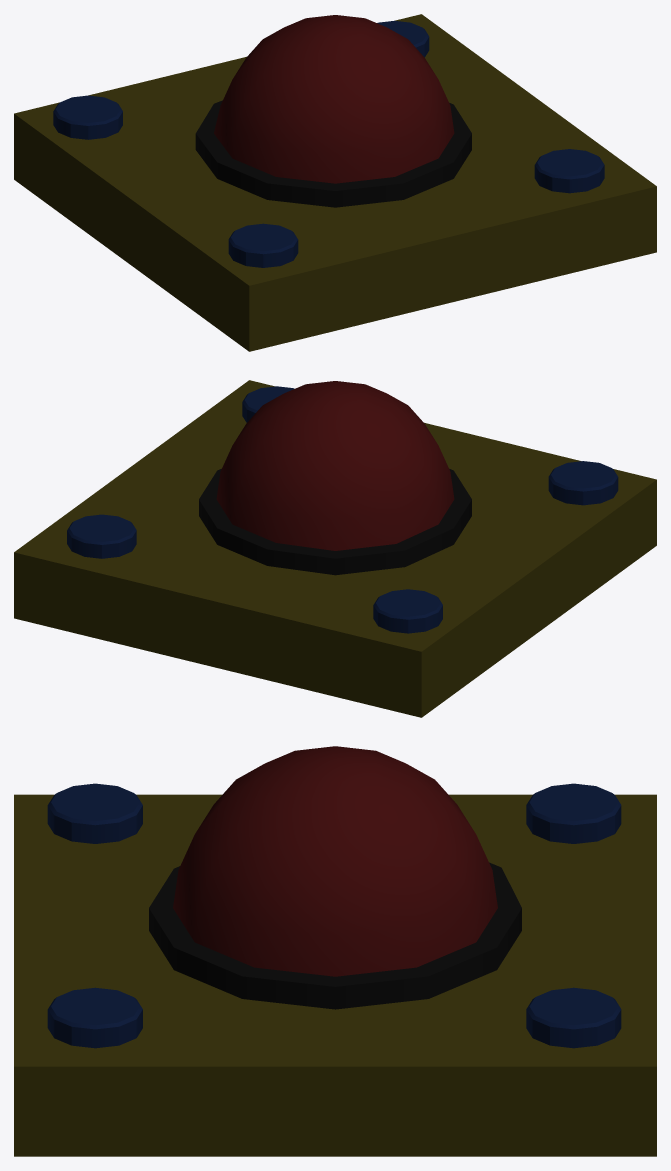
Rendered from staticMesh_prop_Button.fbx.
3 views of the same model, one above another, from view 1: azimuth 30°, elevation 25°; view 2: azimuth 150°, elevation 25°; view 3: azimuth 270°, elevation 25° (orthographic). The views are drawn at different scales.
Parts seen in each view (by area): view 1: pSphere4; view 2: pSphere4; view 3: pSphere4.
Part boxes in pixels (left/top/right/bottom): pSphere4: left=14, top=14, right=656, bottom=351; pSphere4: left=14, top=380, right=656, bottom=717; pSphere4: left=14, top=746, right=656, bottom=1156.
Size of the model in its own units: 52.6 by 23.48 by 52.6.
